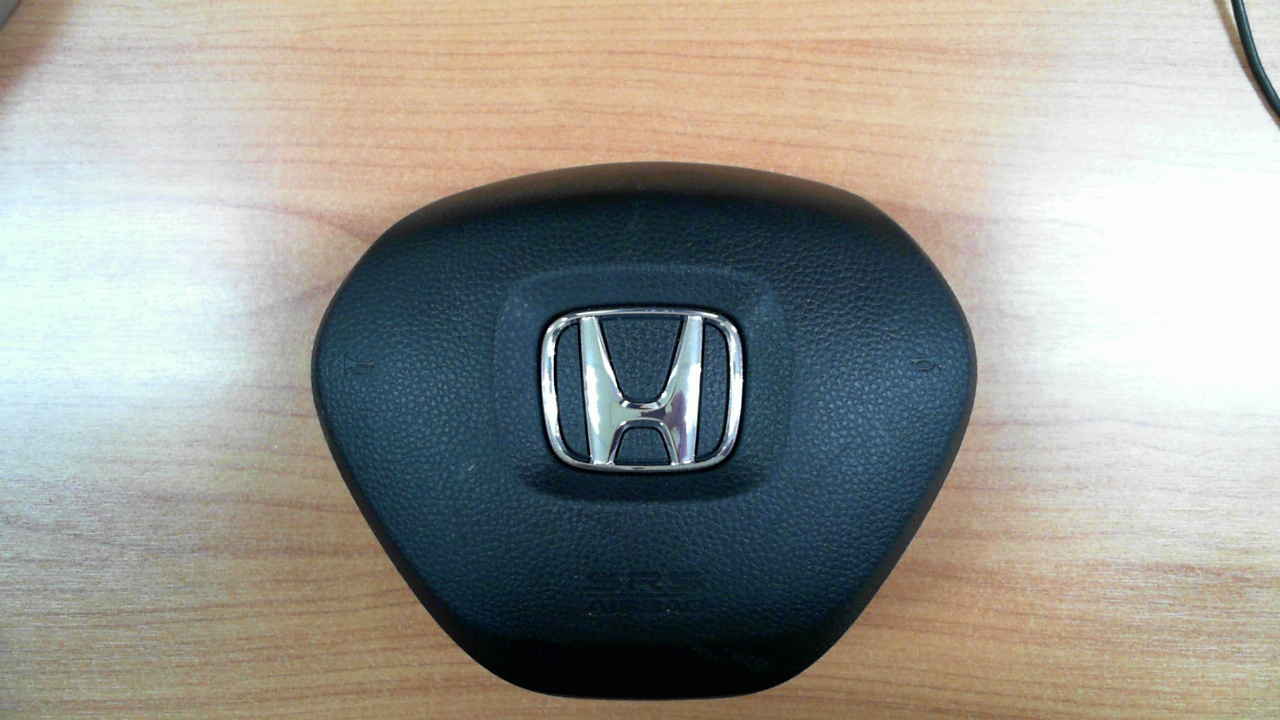Airbag: (312, 163, 978, 701)
